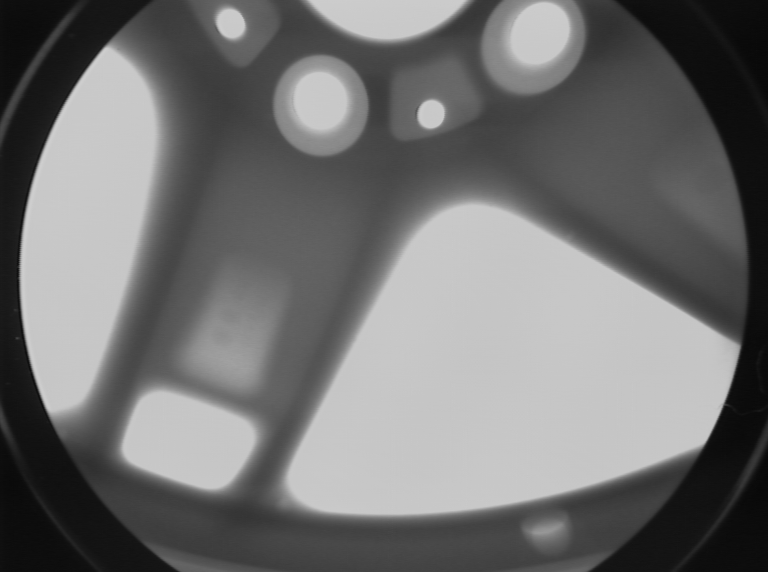defect: (271, 494, 297, 519)
